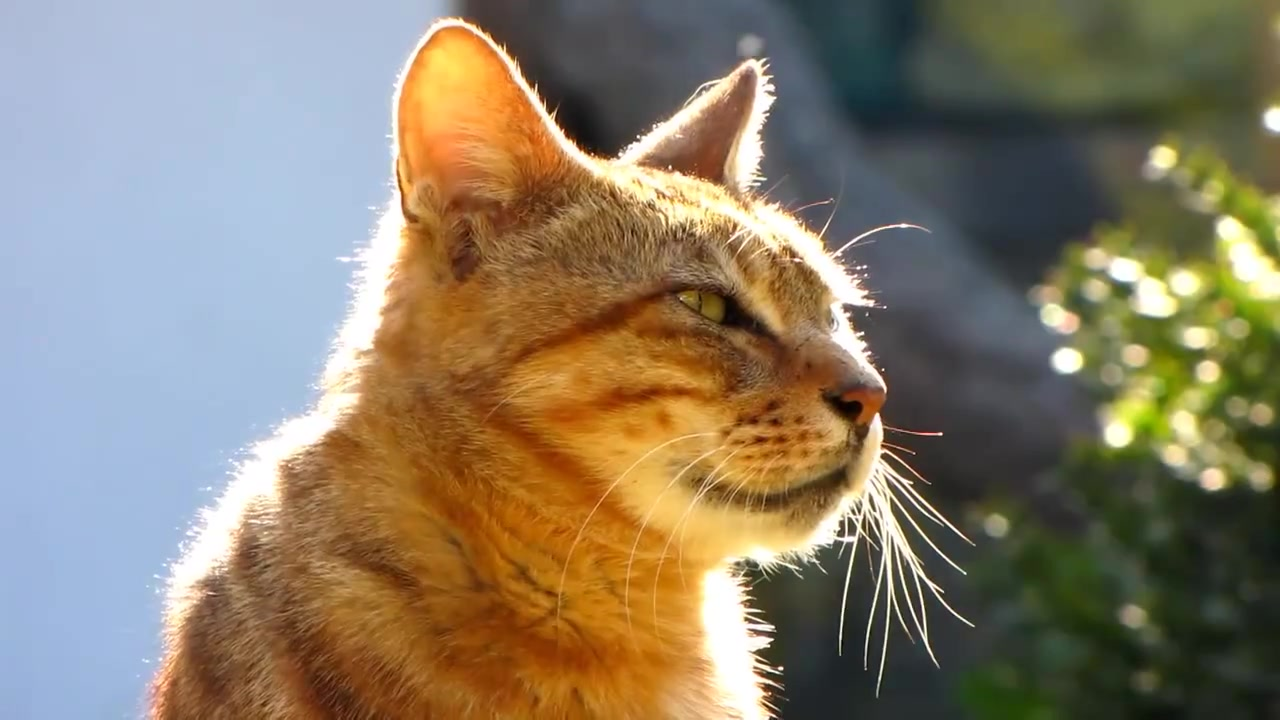cat: (148, 16, 892, 720)
